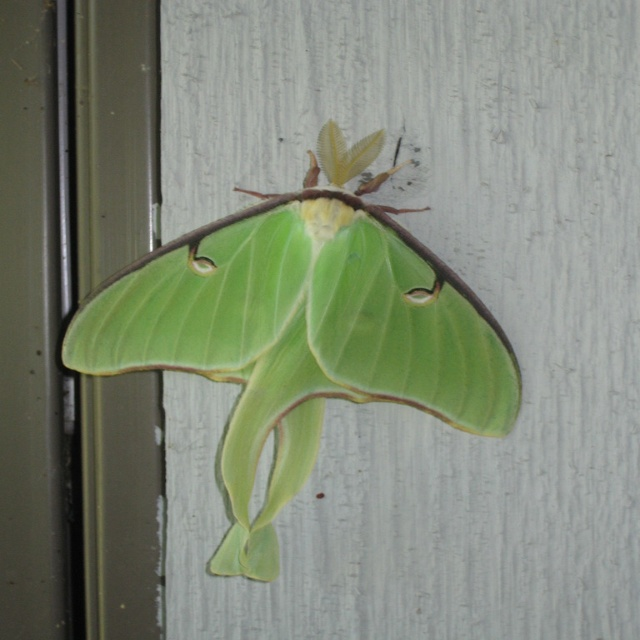Butterfly: (61, 150, 524, 580)
